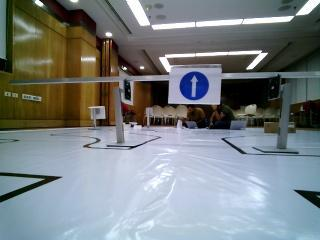straight: (172, 67, 221, 102)
